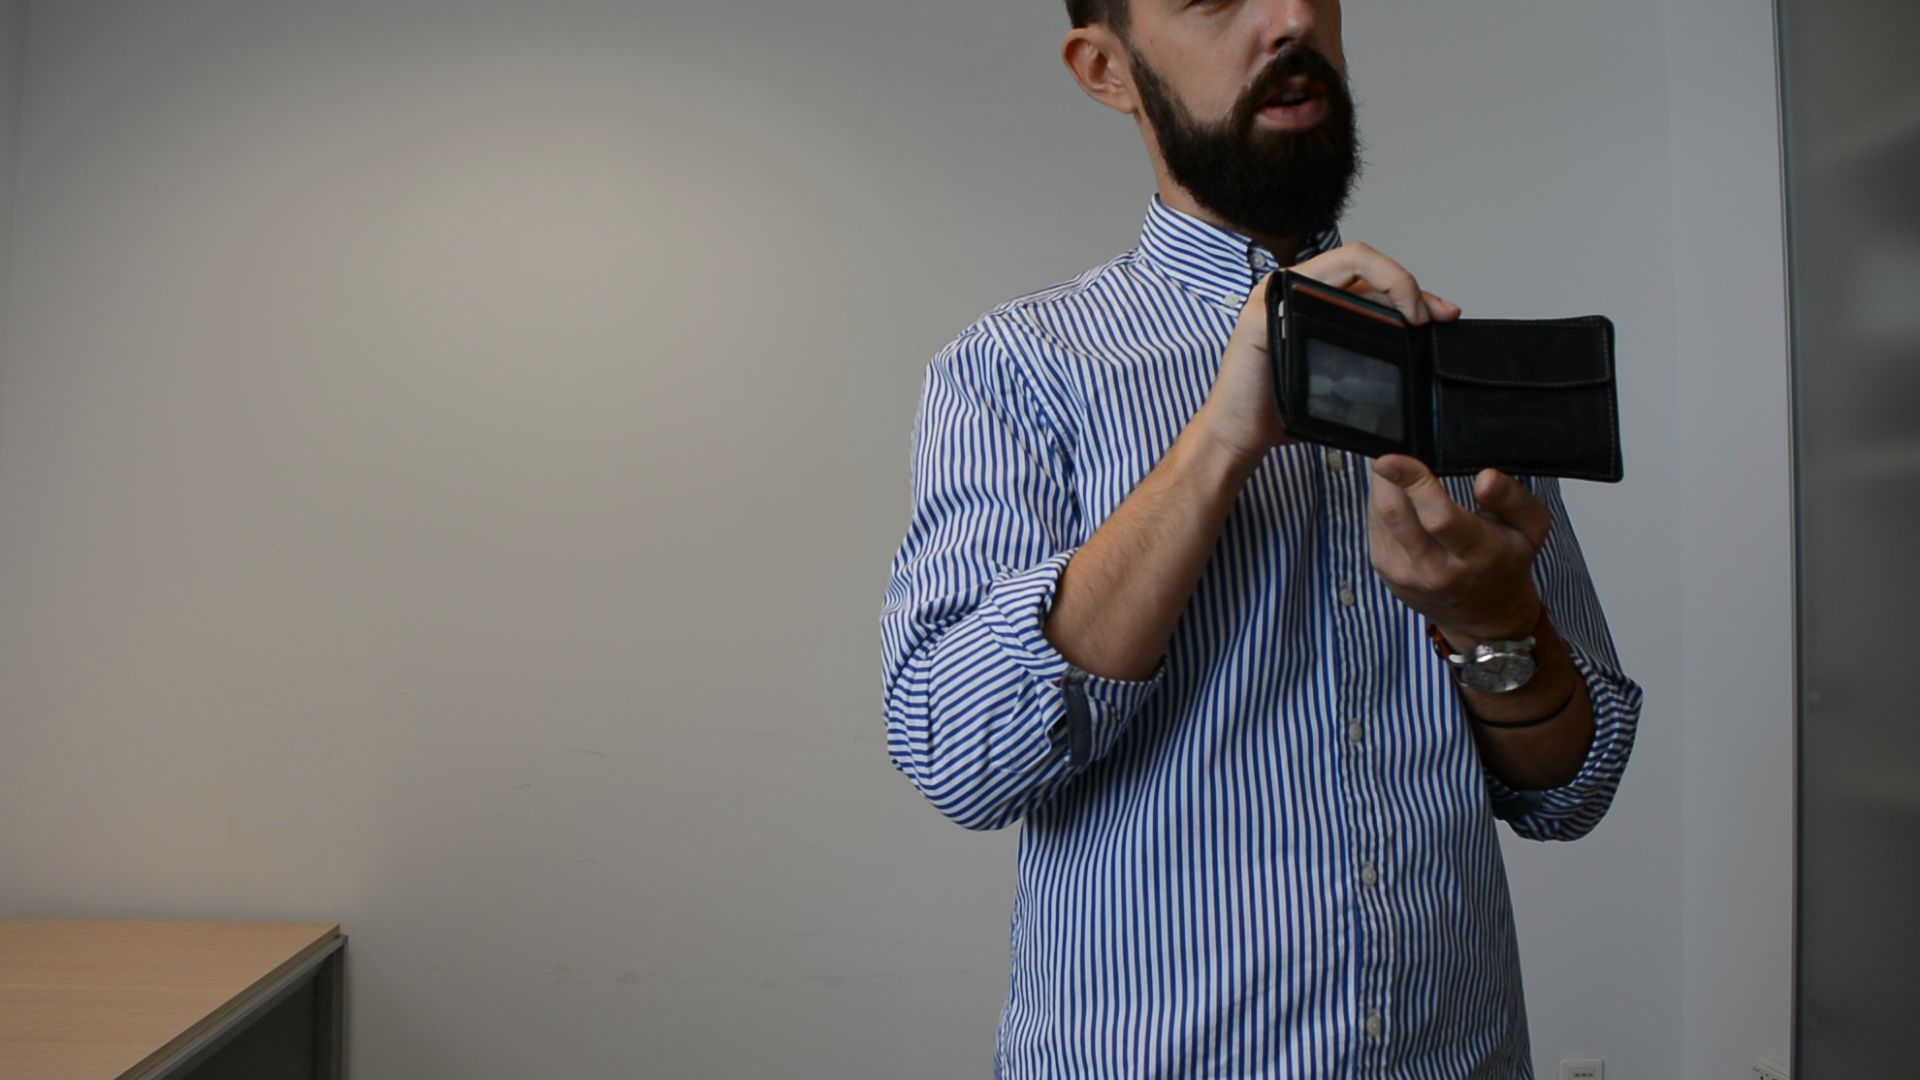monedero: (1262, 264, 1630, 487)
